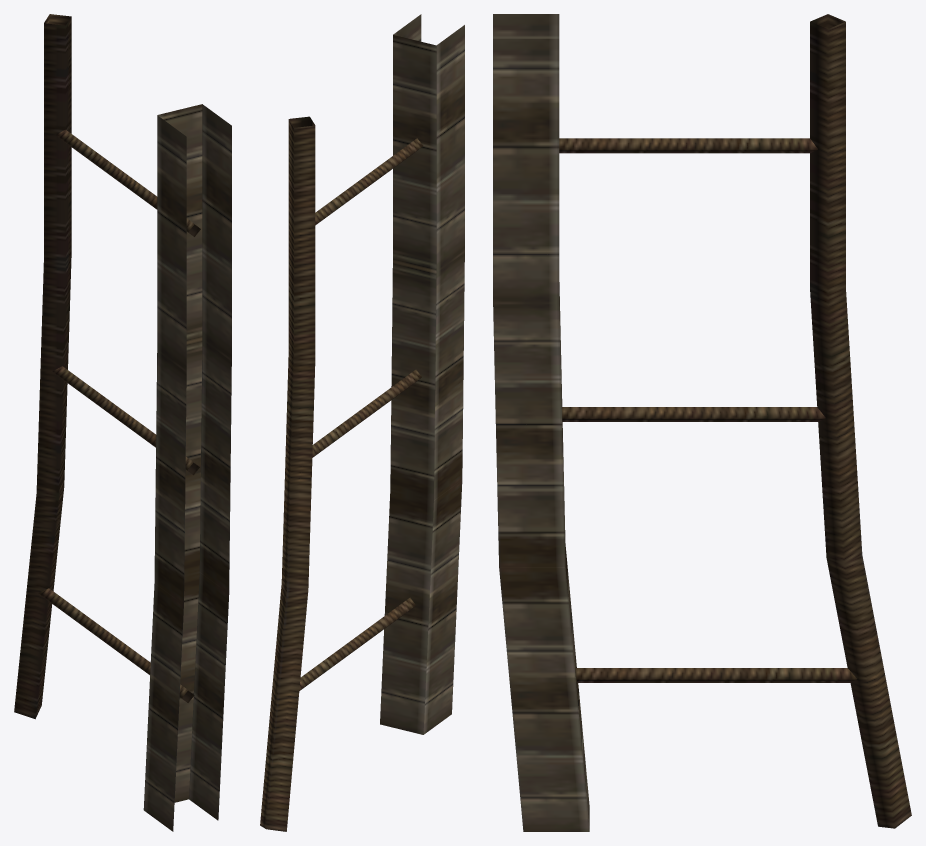
3 renders of one model, left to right at view 1: azimuth 30°, elevation 25°; view 2: azimuth 150°, elevation 25°; view 3: azimuth 270°, elevation 25°, orthographic. The views are drawn at different scales.
Parts seen in each view (by area): view 1: smdimport; view 2: smdimport; view 3: smdimport.
Part boxes in pixels (x1,y1,x2,y2): smdimport: [14, 14, 231, 831]; smdimport: [260, 14, 464, 831]; smdimport: [493, 14, 911, 831].
Size of the model in its own units: 20.13 by 304 by 144.
